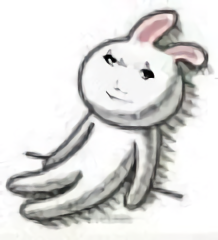dragon: (102, 50, 155, 103)
